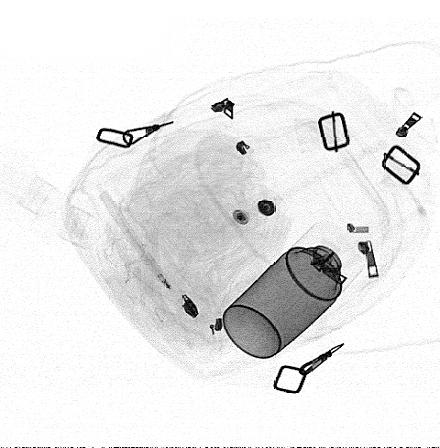Sprayer: (221, 222, 366, 359)
